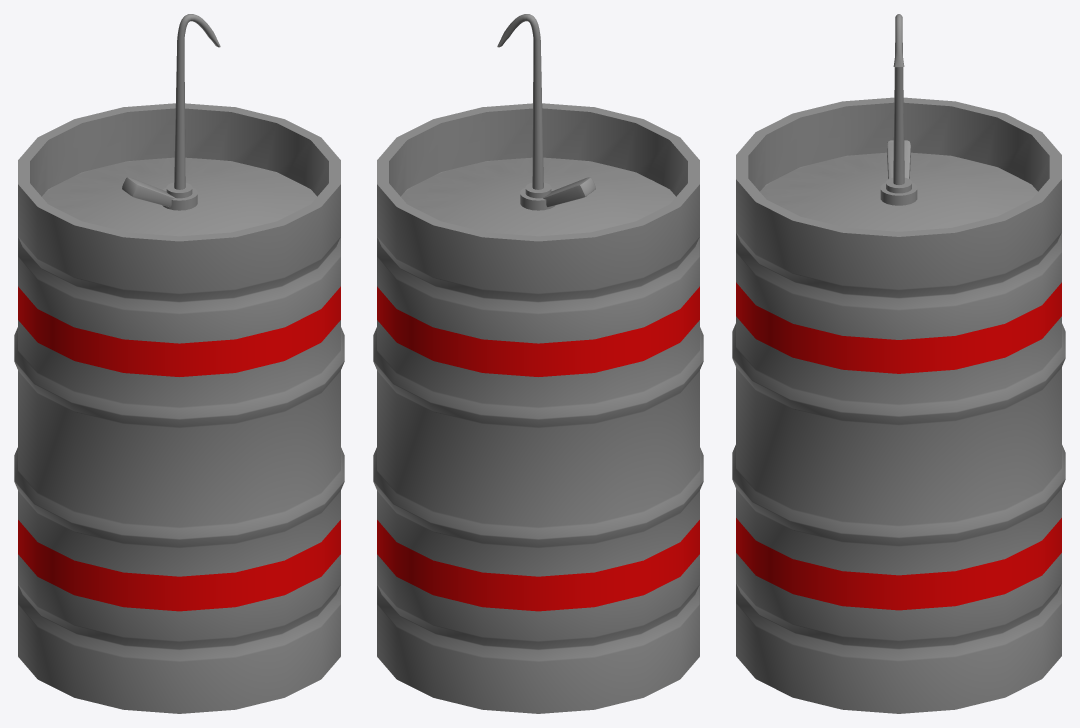
The model's file is sud.FBX.
3 renders of one model, left to right at view 1: azimuth 30°, elevation 25°; view 2: azimuth 150°, elevation 25°; view 3: azimuth 270°, elevation 25°, orthographic.
Parts seen in each view (by area): view 1: Cylinder001; view 2: Cylinder001; view 3: Cylinder001.
Boxes of the visible parts, left/top/right/bottom form: Cylinder001: left=14, top=14, right=344, bottom=713; Cylinder001: left=373, top=14, right=703, bottom=713; Cylinder001: left=732, top=14, right=1065, bottom=713.
Bounding box in the file's own units: 45.79 × 94.56 × 45.1.
